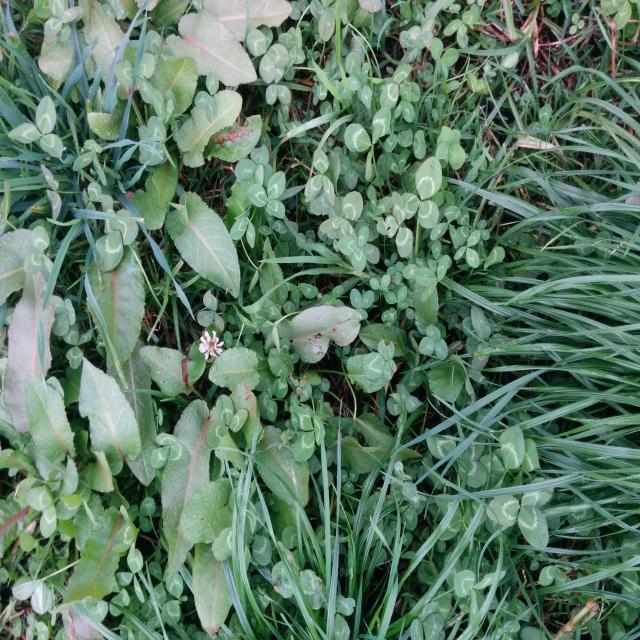Four Leaf Clover: (436, 126, 465, 170)
